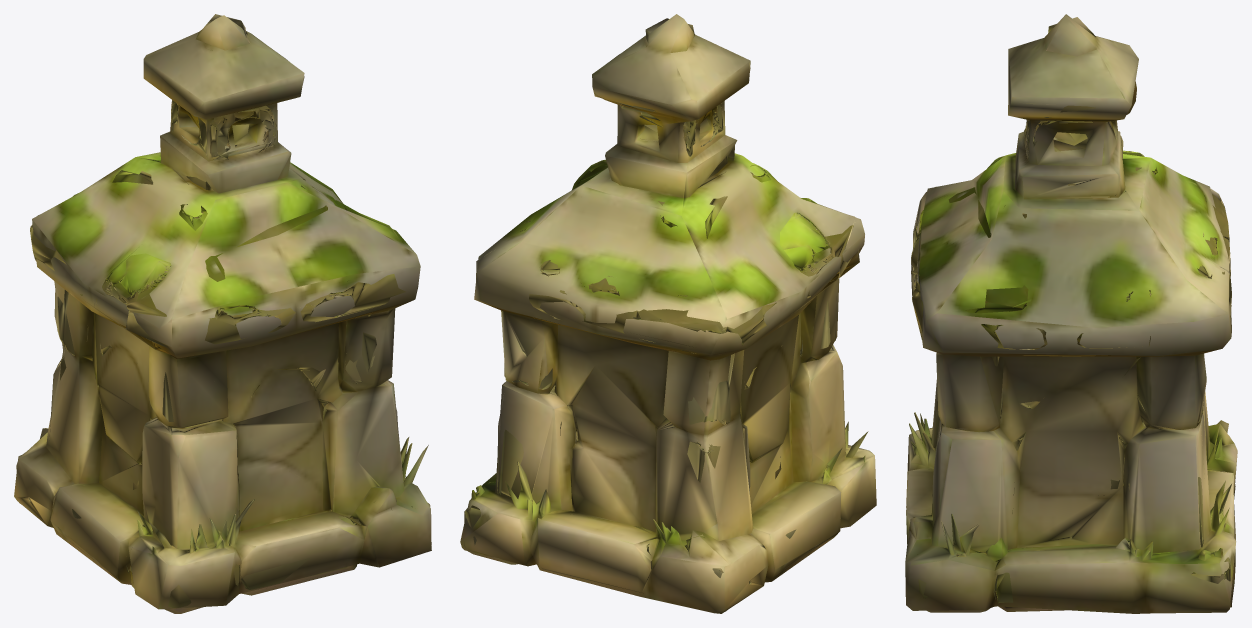
The picture shows the model from 3 angles, left to right: view 1: azimuth 30°, elevation 25°; view 2: azimuth 150°, elevation 25°; view 3: azimuth 270°, elevation 25°; orthographic projection. The views are drawn at different scales.
Parts seen in each view (by area): view 1: world; view 2: world; view 3: world.
Part boxes in pixels (bbox=[...]): world: bbox=[14, 14, 431, 613]; world: bbox=[460, 14, 876, 613]; world: bbox=[905, 14, 1237, 613].
Bounding box in the file's own units: 0.5653 × 0.9957 × 0.5633.
Materials: 1 (1 with a texture image).
